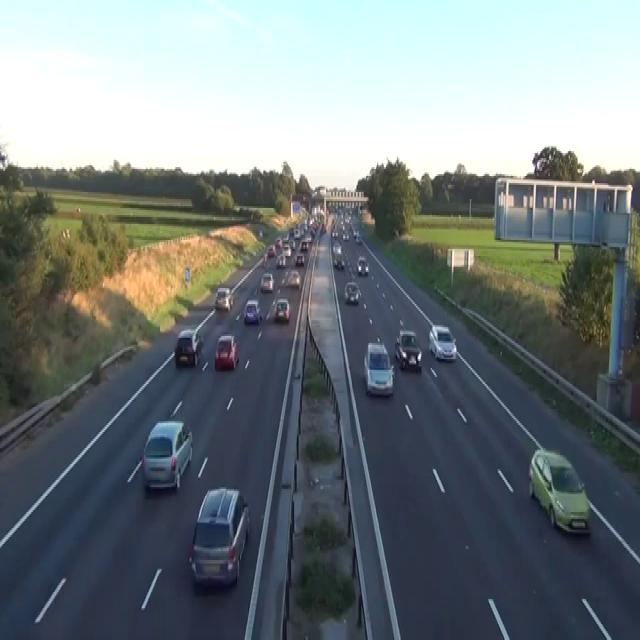Car: (188, 486, 250, 588), (528, 446, 591, 535), (141, 420, 193, 490), (363, 338, 394, 396), (394, 329, 422, 370), (174, 327, 203, 366), (428, 323, 456, 361), (214, 332, 239, 370), (214, 286, 234, 311), (243, 298, 262, 324), (273, 297, 290, 322), (344, 281, 360, 304), (332, 240, 344, 268), (259, 272, 274, 292), (285, 270, 300, 288), (356, 256, 369, 276), (275, 252, 286, 266), (333, 254, 344, 268), (332, 240, 342, 254), (294, 252, 304, 265), (267, 244, 275, 258), (61, 228, 70, 240), (282, 244, 291, 256), (261, 252, 268, 266), (300, 240, 308, 251), (304, 233, 312, 242), (355, 233, 362, 243), (275, 237, 282, 247), (331, 228, 338, 238), (289, 238, 295, 249), (282, 233, 289, 242), (294, 228, 300, 238), (343, 231, 349, 240), (320, 224, 326, 233), (353, 228, 358, 236), (75, 206, 81, 212), (259, 228, 262, 236)
